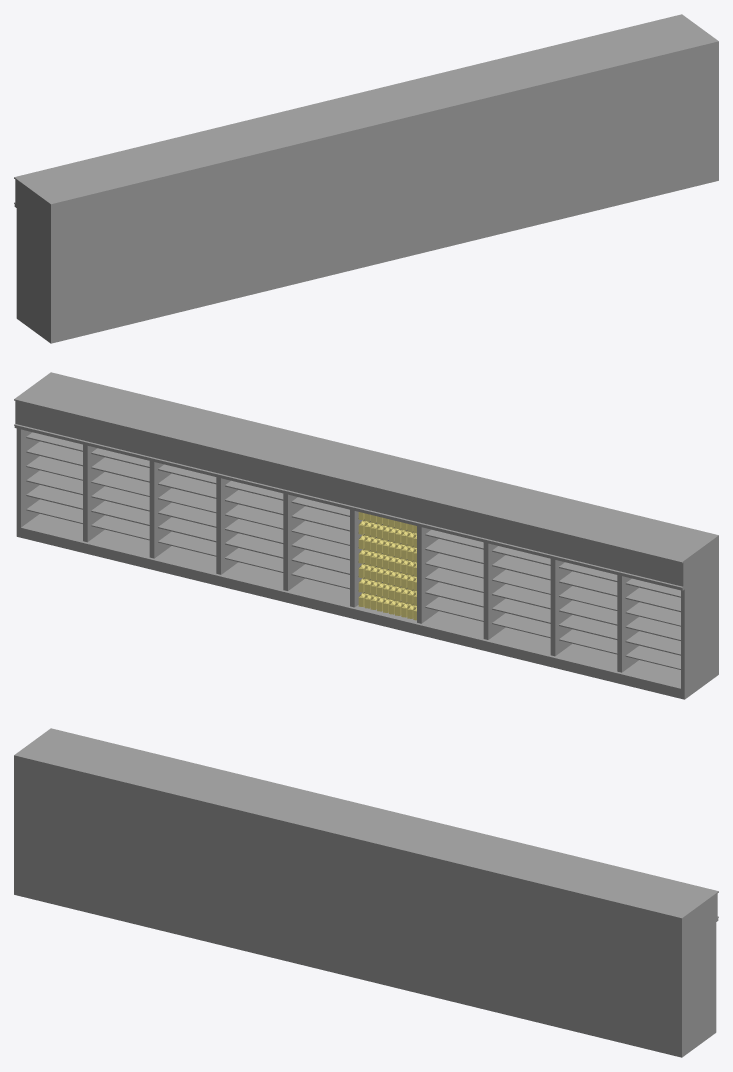
File: Milk Shelf v4.fbx
3 renders of one model, top to bottom at view 1: azimuth 30°, elevation 25°; view 2: azimuth 150°, elevation 25°; view 3: azimuth 330°, elevation 25°, orthographic.
Visible parts, largest first — view 1: Shelves; view 2: Shelves; view 3: Shelves.
Boxes of the visible parts, bbox=[...] form: Shelves: bbox=[14, 14, 718, 343]; Shelves: bbox=[14, 372, 718, 699]; Shelves: bbox=[14, 728, 718, 1057].
Size of the model in its own units: 987 by 197 by 94.66.
